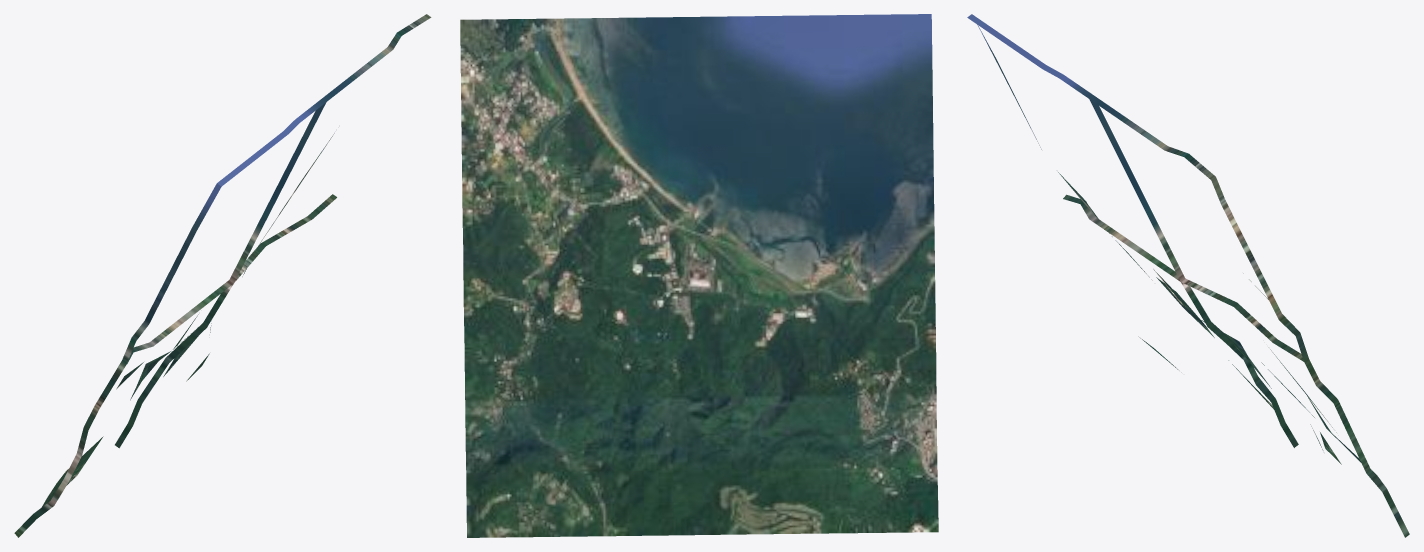
3 views of the same model, side by side, from view 1: azimuth 30°, elevation 25°; view 2: azimuth 150°, elevation 25°; view 3: azimuth 270°, elevation 25° (orthographic). The views are drawn at different scales.
Size of the model in its own units: 4980 by 4396 by 4280.
Materials: 1 (1 with a texture image).
